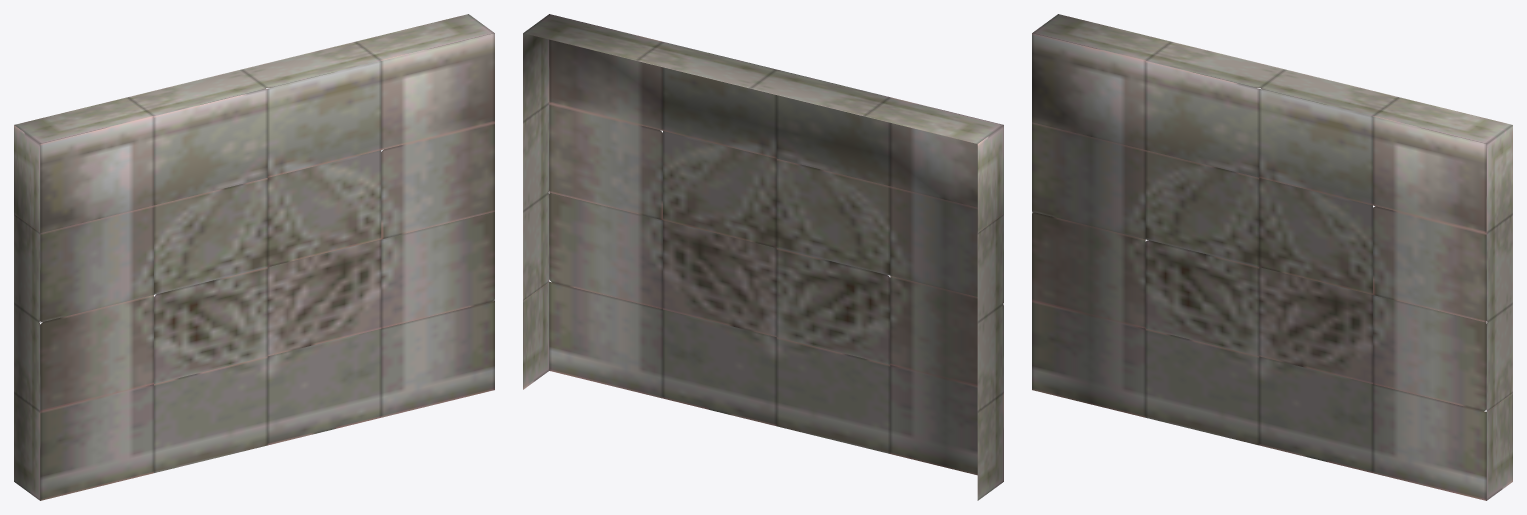
3 renders of one model, left to right at view 1: azimuth 30°, elevation 25°; view 2: azimuth 150°, elevation 25°; view 3: azimuth 330°, elevation 25°, orthographic.
Visible parts, largest first — view 1: T1L4M009_20; view 2: T1L4M009_20; view 3: T1L4M009_20.
Boxes of the visible parts, x1,y1,x2,y2 form: T1L4M009_20: (14, 14, 494, 500); T1L4M009_20: (523, 14, 1003, 500); T1L4M009_20: (1032, 14, 1512, 500).
Bounding box in the file's own units: 4 × 3 × 0.3994.
